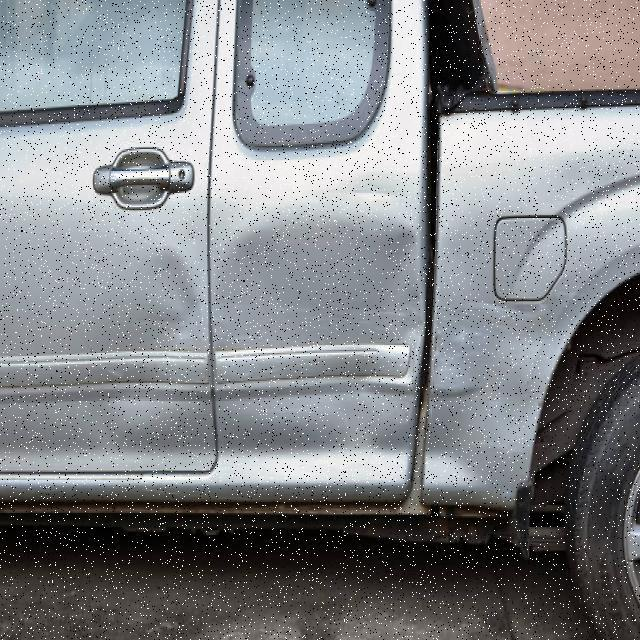doorouter-dent: (3, 102, 218, 483), (214, 127, 427, 490)
quaterpanel-dent: (426, 111, 624, 502)
